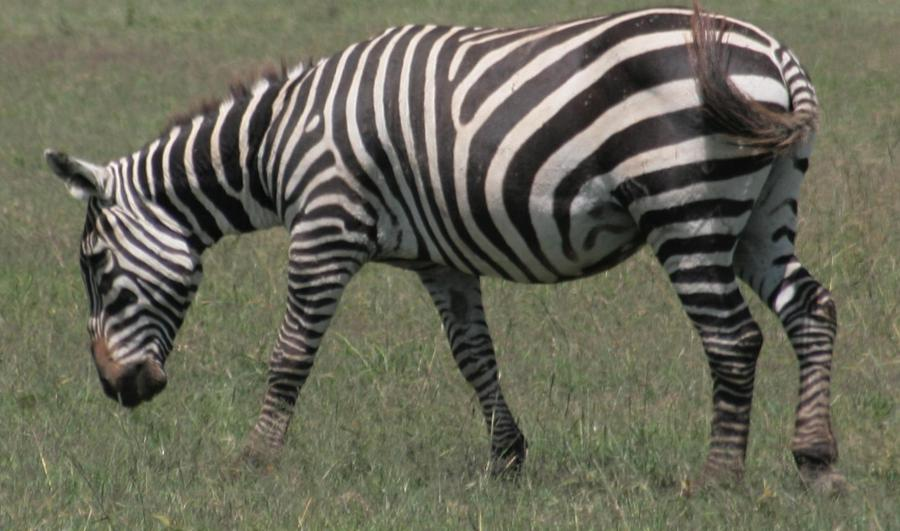zebra_plains: (272, 9, 792, 321)
